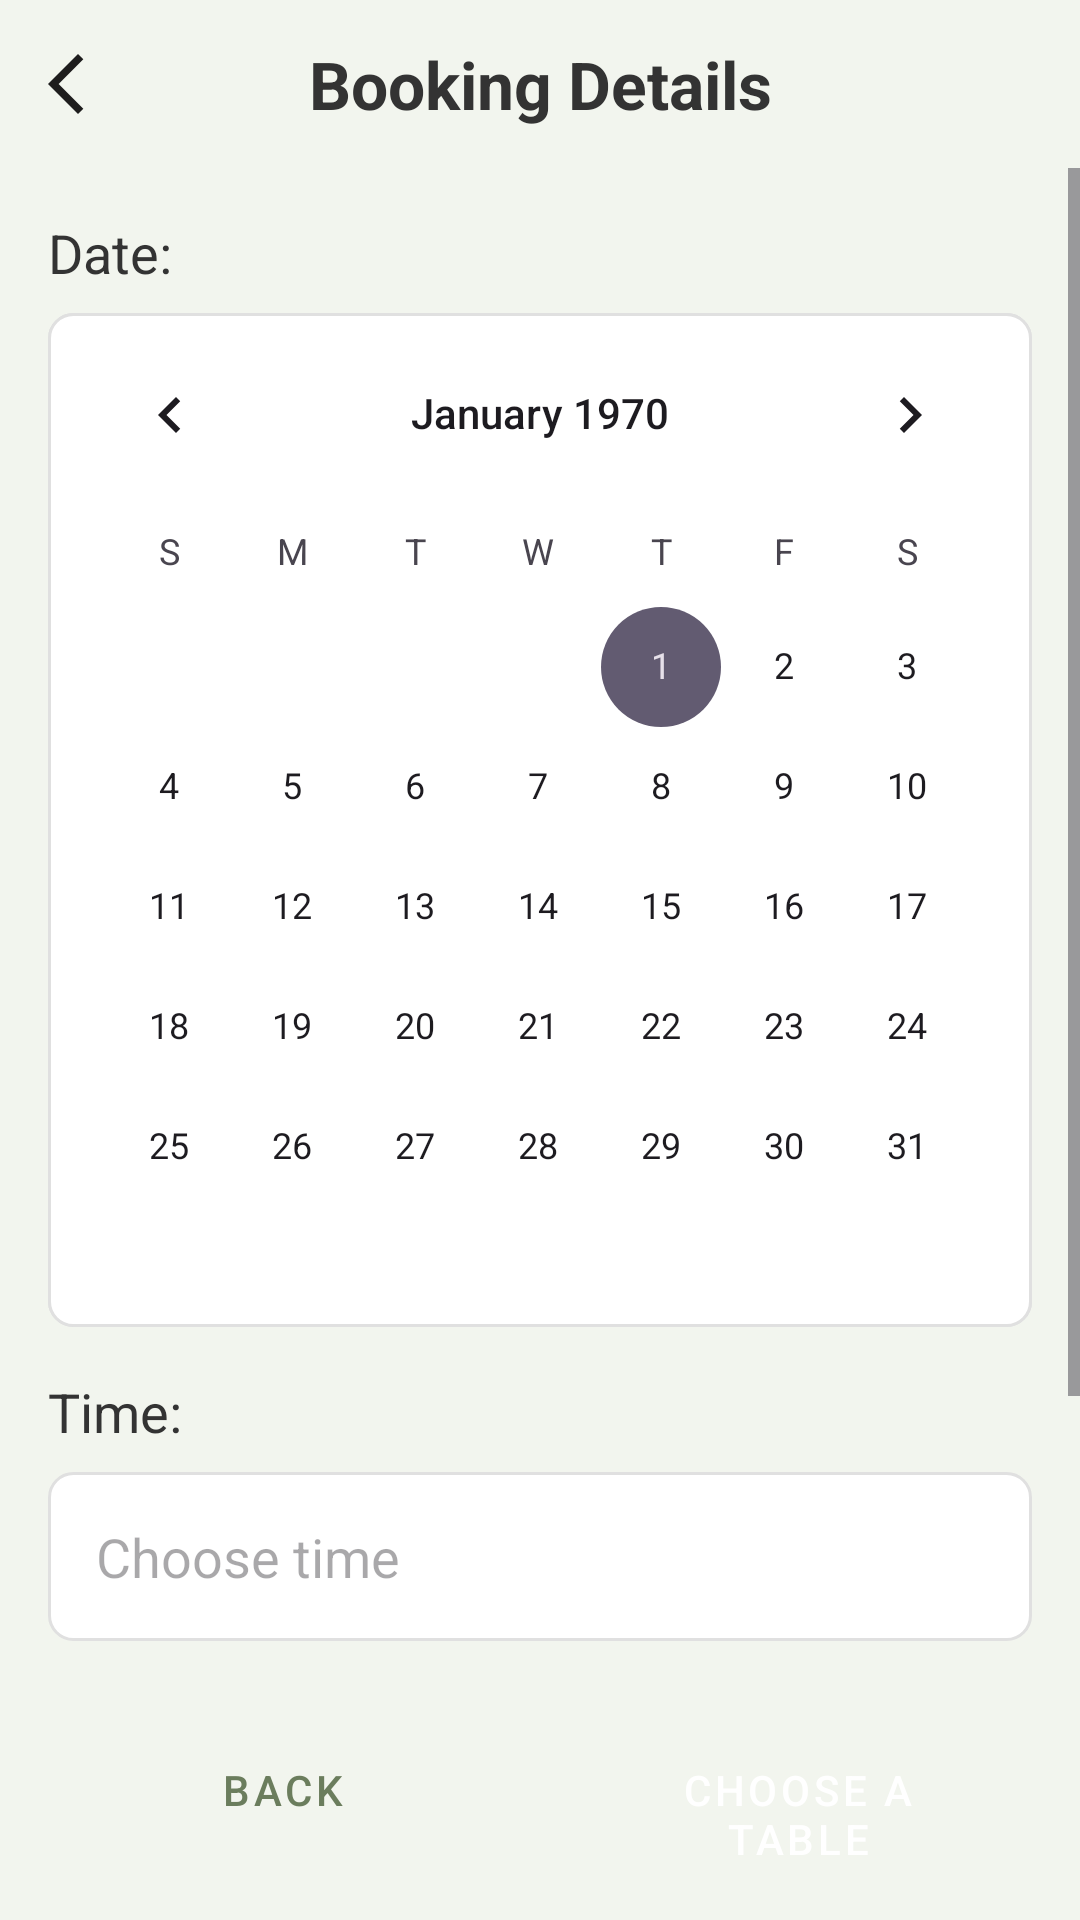

Icons on this 1080px×1920px Android screen, each with the point to tap as point (x, y):
Back: point (65, 84)
